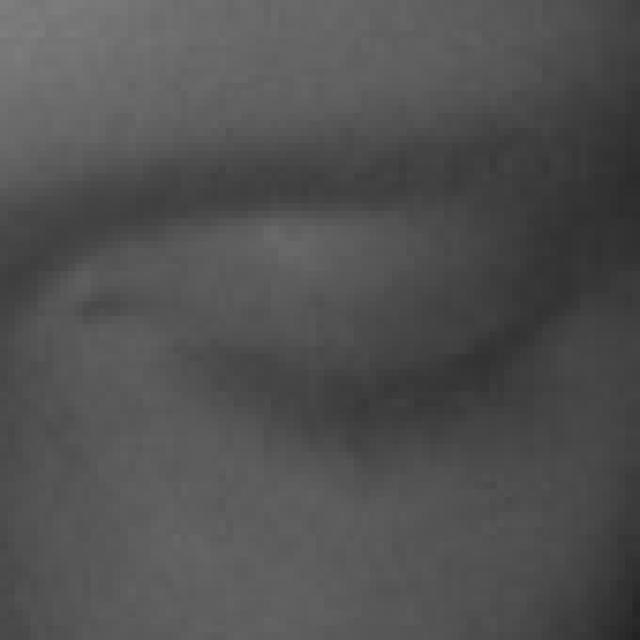Eyeclosed: (211, 195, 599, 514)
